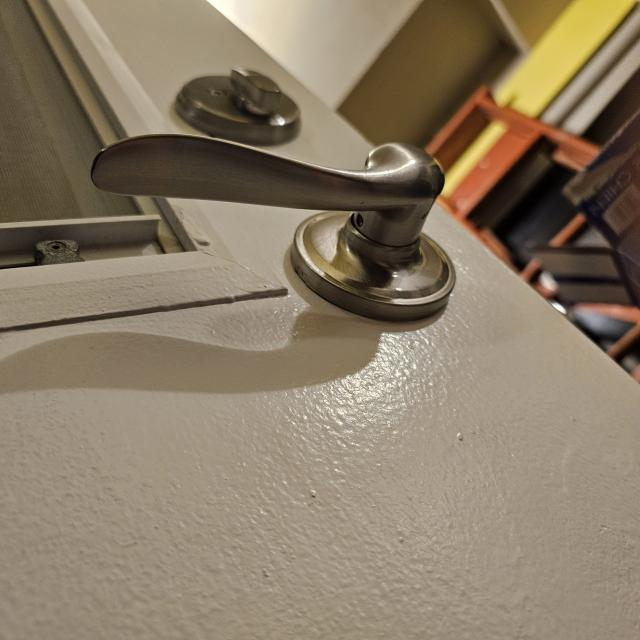door-handle: (91, 135, 455, 320)
